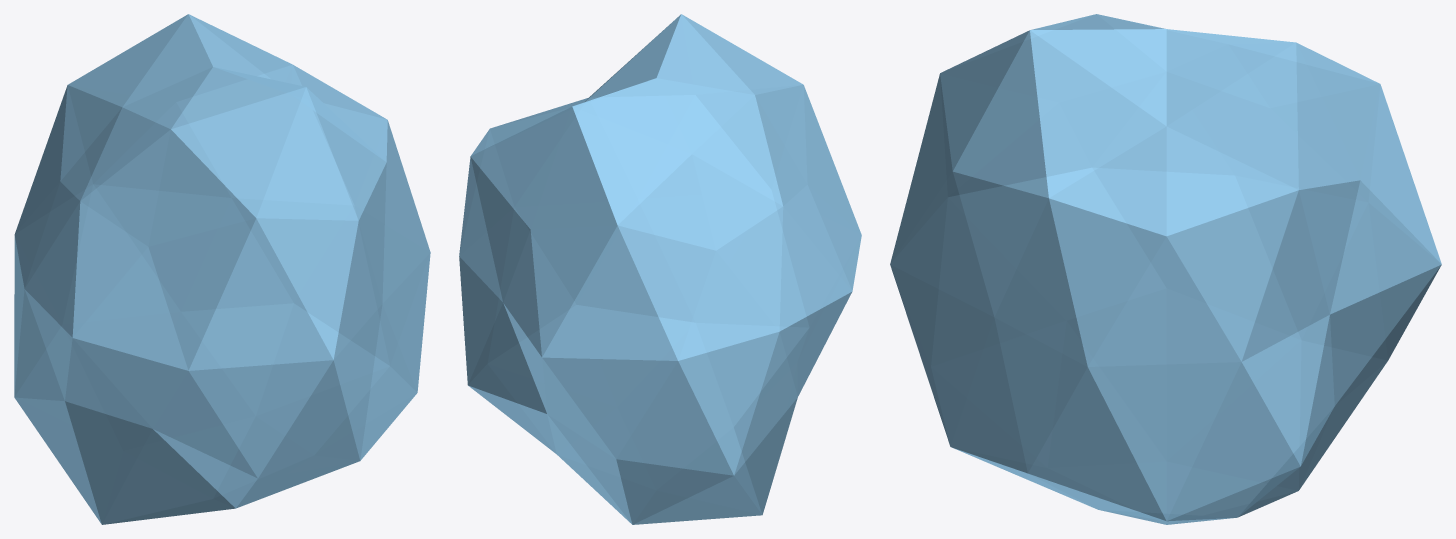
The model's file is batu-es.glb.
3 renders of one model, left to right at view 1: azimuth 30°, elevation 25°; view 2: azimuth 150°, elevation 25°; view 3: azimuth 270°, elevation 25°, orthographic. The views are drawn at different scales.
Visible parts, largest first — view 1: Icosphere; view 2: Icosphere; view 3: Icosphere.
Boxes of the visible parts, left/top/right/bottom form: Icosphere: left=14, top=14, right=430, bottom=524; Icosphere: left=459, top=14, right=861, bottom=524; Icosphere: left=890, top=14, right=1441, bottom=524.
Size of the model in its own units: 4.37 by 5.25 by 5.11.
